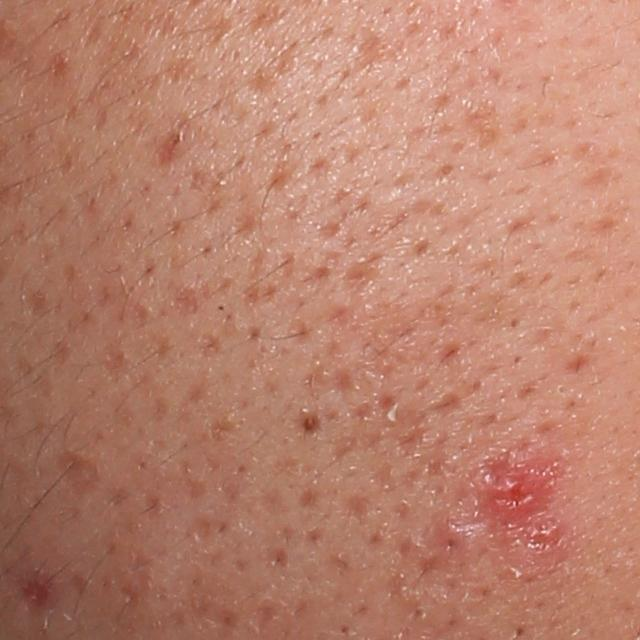atrophic_scar: (335, 391, 463, 462), (333, 248, 383, 302), (345, 26, 393, 74), (10, 569, 57, 615), (53, 447, 102, 489)
papule: (482, 458, 551, 529), (430, 514, 486, 564)
